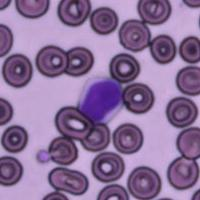L: (77, 76, 124, 125)
